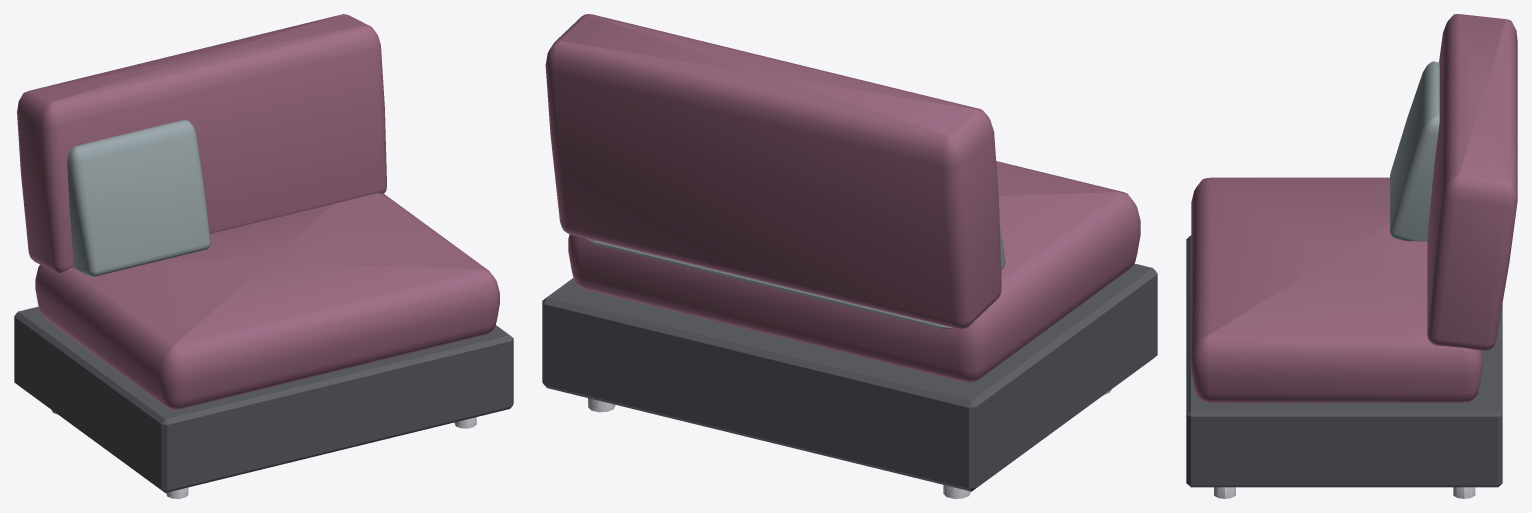
File: cyberpunk-apartment-and-neon-block-modular-sofa-unit-ab34d202__37806.glb
3 views of the same model, side by side, from view 1: azimuth 30°, elevation 25°; view 2: azimuth 150°, elevation 25°; view 3: azimuth 270°, elevation 25° (orthographic). The views are drawn at different scales.
Parts seen in each view (by area): view 1: modular-sofa-unit; view 2: modular-sofa-unit; view 3: modular-sofa-unit.
Boxes of the visible parts, x1=… form: modular-sofa-unit: x1=14, y1=14, x2=513, y2=498; modular-sofa-unit: x1=542, y1=14, x2=1157, y2=498; modular-sofa-unit: x1=1186, y1=14, x2=1517, y2=498.
Bounding box in the file's own units: 1.1 × 0.9338 × 0.8584.
